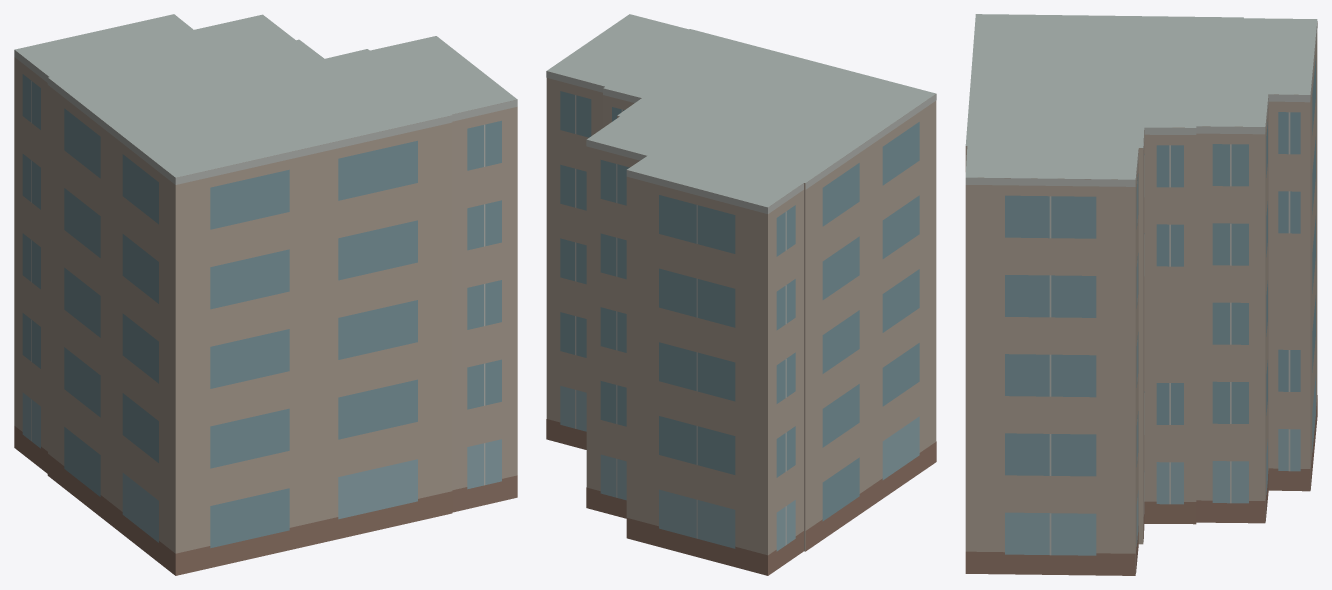
Rendered from survey-upis-32722602.glb.
3 renders of one model, left to right at view 1: azimuth 30°, elevation 25°; view 2: azimuth 150°, elevation 25°; view 3: azimuth 270°, elevation 25°, orthographic. The views are drawn at different scales.
Visible parts, largest first — view 1: survey-upis-32722602.tmp; view 2: survey-upis-32722602.tmp; view 3: survey-upis-32722602.tmp.
Boxes of the visible parts, x1,y1,x2,y2 form: survey-upis-32722602.tmp: (14, 14, 517, 575); survey-upis-32722602.tmp: (546, 14, 936, 575); survey-upis-32722602.tmp: (965, 14, 1317, 575).
Bounding box in the file's own units: 11.94 × 13.3 × 10.72.
